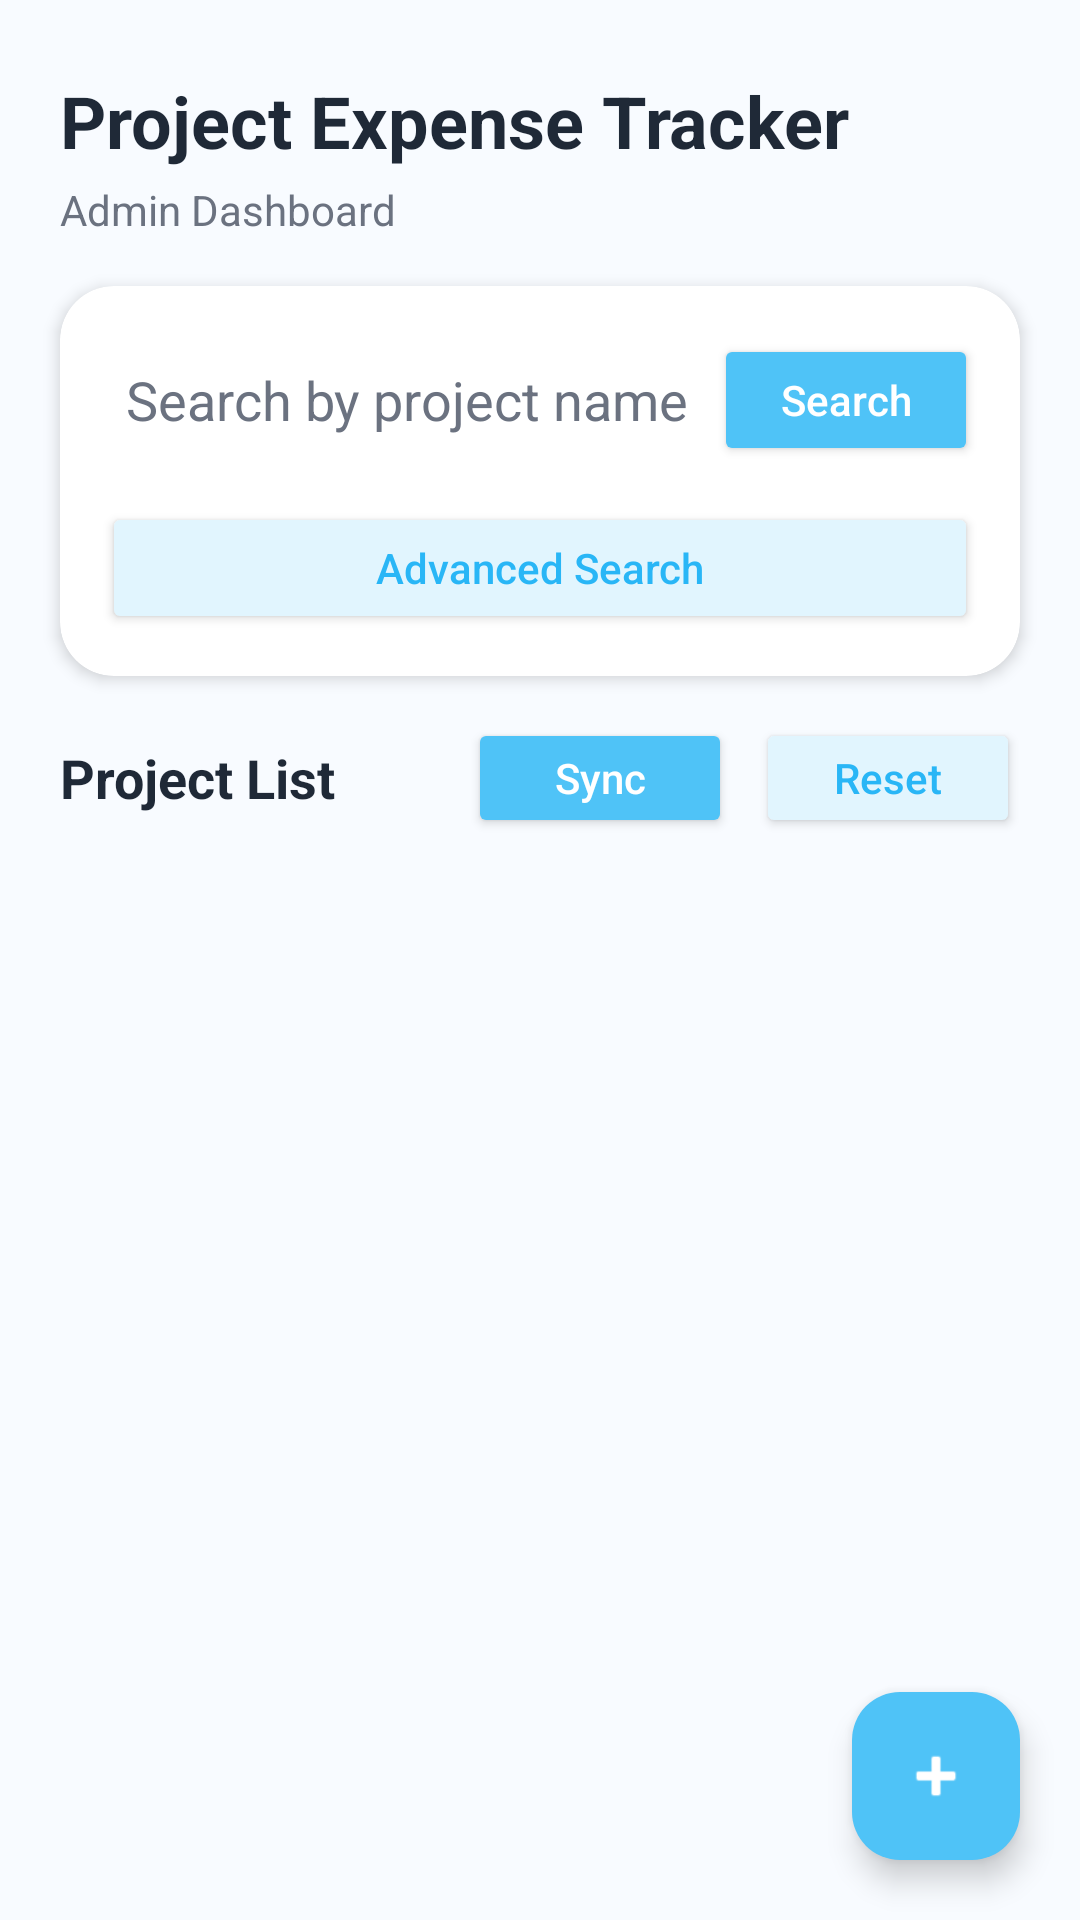

Where icons sit on this 1080×1920 app screen, as (x1, y1, x2, y2):
Add Project: (852, 1692, 1020, 1860)
